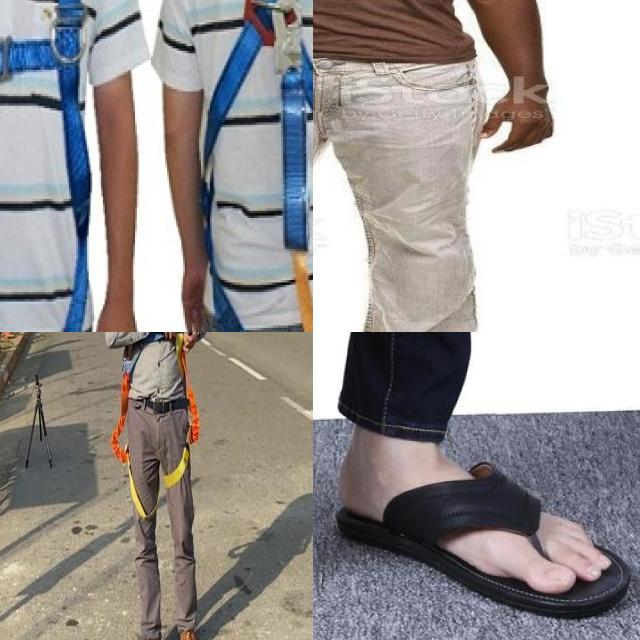Harness: (0, 0, 83, 332), (198, 0, 313, 228), (110, 371, 158, 521), (164, 351, 201, 490), (122, 332, 185, 380)
Sandals: (334, 407, 631, 617)
hand_noglove: (472, 70, 560, 161)
person: (313, 0, 554, 332)
